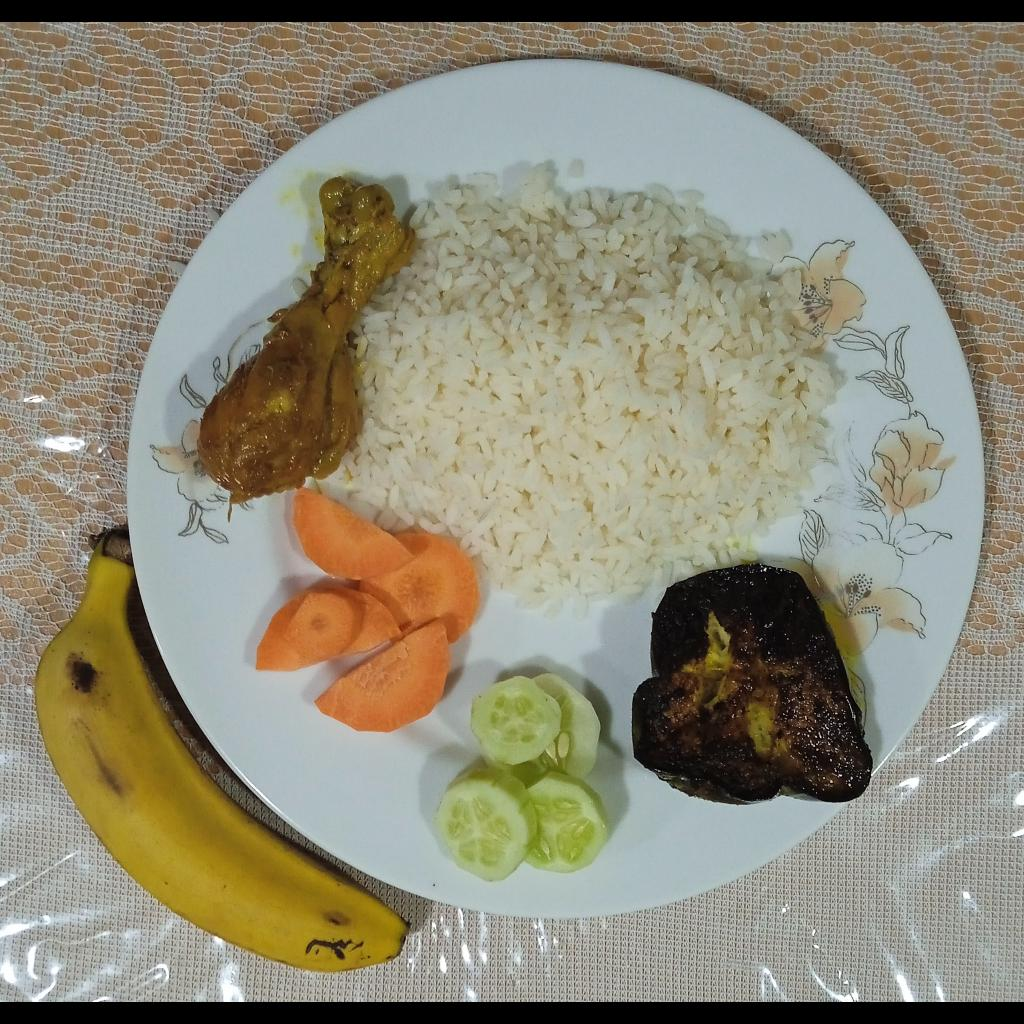banana: (34, 525, 413, 974)
begun-vaji: (631, 566, 873, 808)
carrot: (255, 487, 480, 733)
chicken: (194, 176, 417, 505)
cucumber: (435, 672, 613, 884)
rice: (319, 161, 832, 615)
